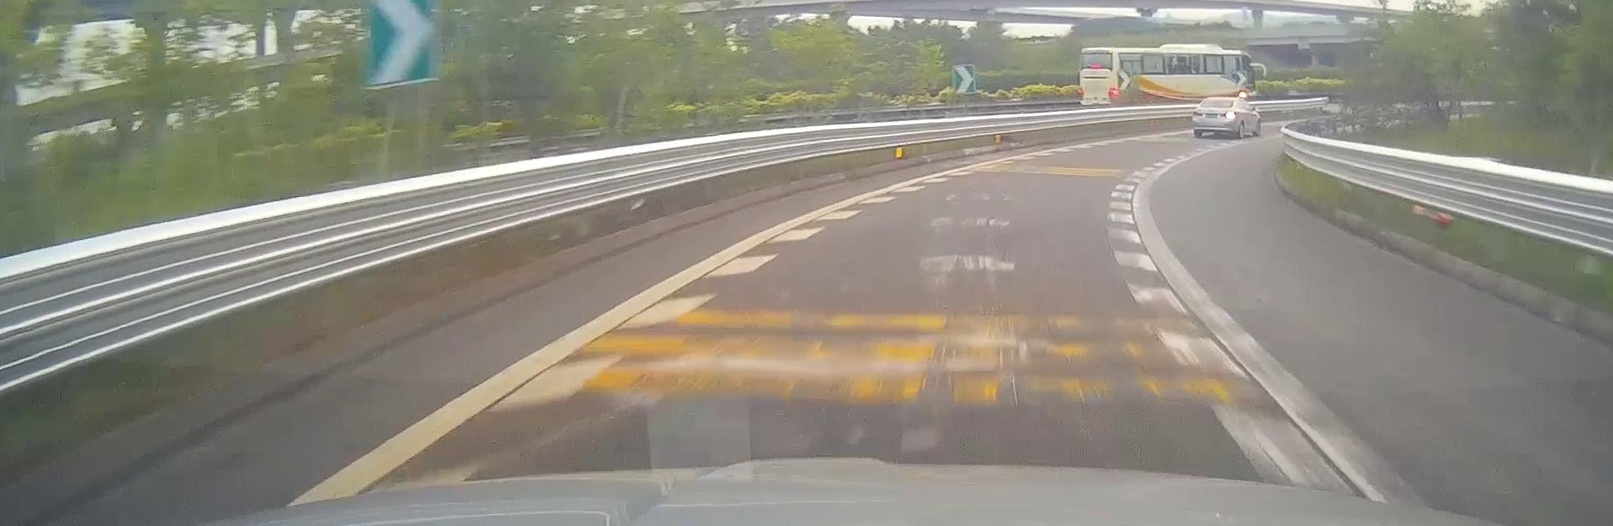L_light: (1192, 111, 1204, 116)
R_light: (1220, 111, 1236, 117)
T_light: (1217, 99, 1225, 100)
day-right: (1192, 96, 1240, 140)
